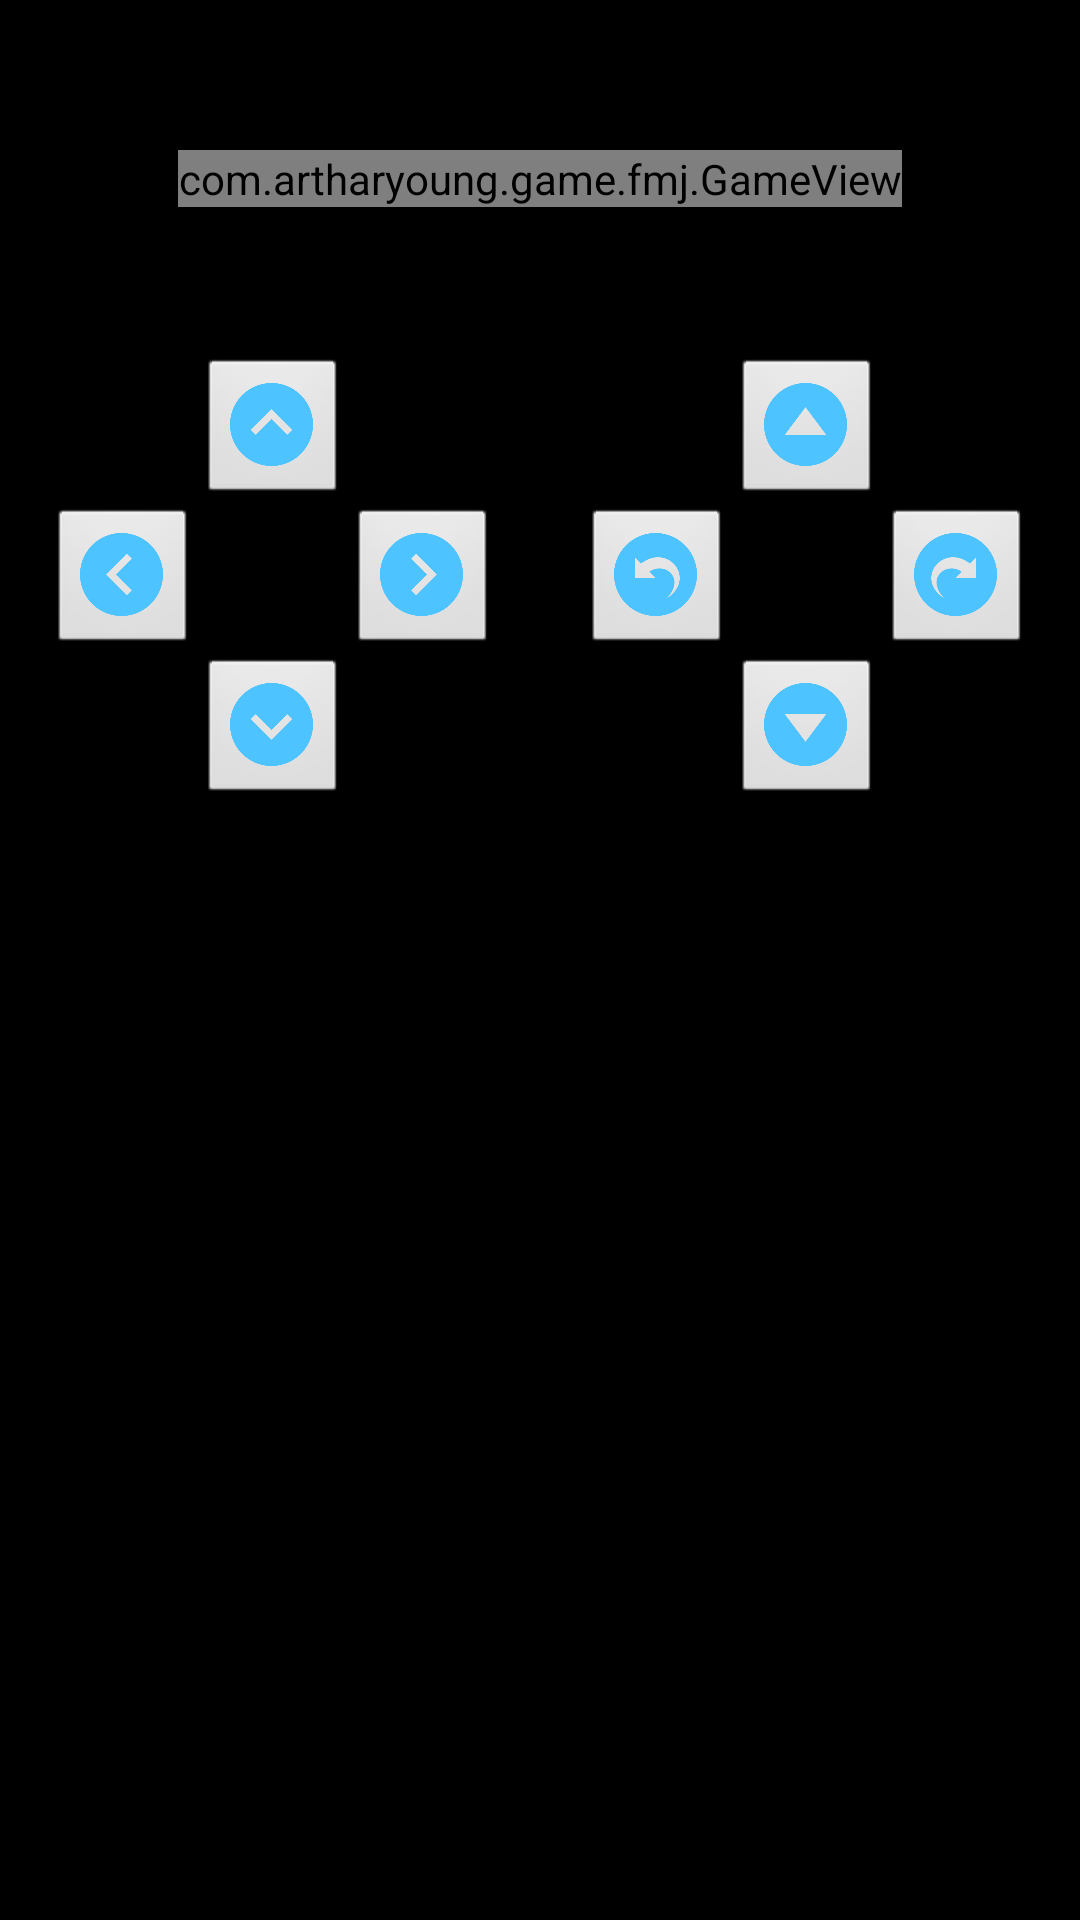

Icons on this 1080px×1920px Android screen, each with the point to tap as (x=x, y=y):
game key down: (x=272, y=725)
game key left: (x=122, y=575)
game key page down: (x=806, y=725)
game key page up: (x=806, y=425)
game key right: (x=422, y=575)
game key up: (x=272, y=425)
